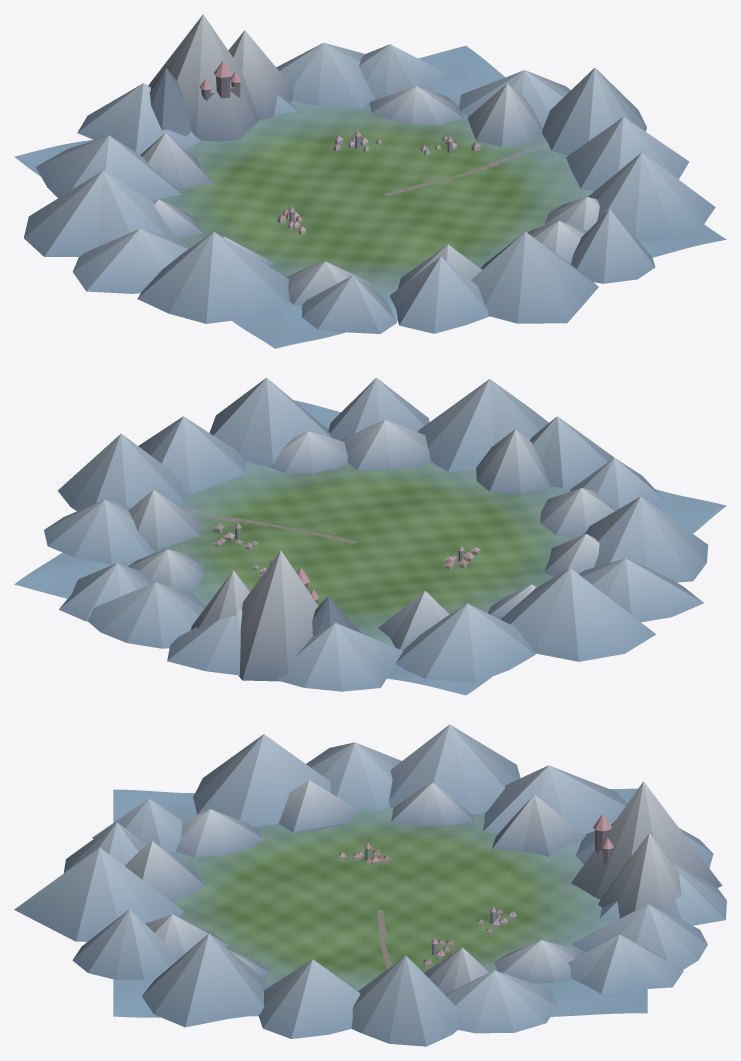
File: region.glb
3 renders of one model, top to bottom at view 1: azimuth 30°, elevation 25°; view 2: azimuth 150°, elevation 25°; view 3: azimuth 270°, elevation 25°, orthographic. The views are drawn at different scales.
Visible parts, largest first — view 1: far_range_outer, near_skirt, far_range_inner, far_mountain_hero, far_castle, near_road; view 2: far_range_outer, near_skirt, far_range_inner, far_mountain_hero, near_road; view 3: far_range_outer, near_skirt, far_range_inner, far_mountain_hero, far_castle.
Part boxes in pixels (x1,y1,x2,y2): far_range_outer: (24,42,715,333); near_skirt: (14,45,726,348); far_range_inner: (140,83,599,305); far_mountain_hero: (148,14,292,141); far_castle: (200,61,241,100); near_road: (384,142,549,195); far_range_outer: (44,377,708,691); near_skirt: (14,400,726,695); far_range_inner: (128,420,616,650); far_mountain_hero: (191,550,361,681); near_road: (177,504,356,543); far_range_outer: (14,724,726,1046); near_skirt: (113,788,647,1017); far_range_inner: (125,780,585,994); far_mountain_hero: (571,781,722,918); far_castle: (593,814,613,864).
Bounding box in the file's own units: 849 × 140 × 854.
